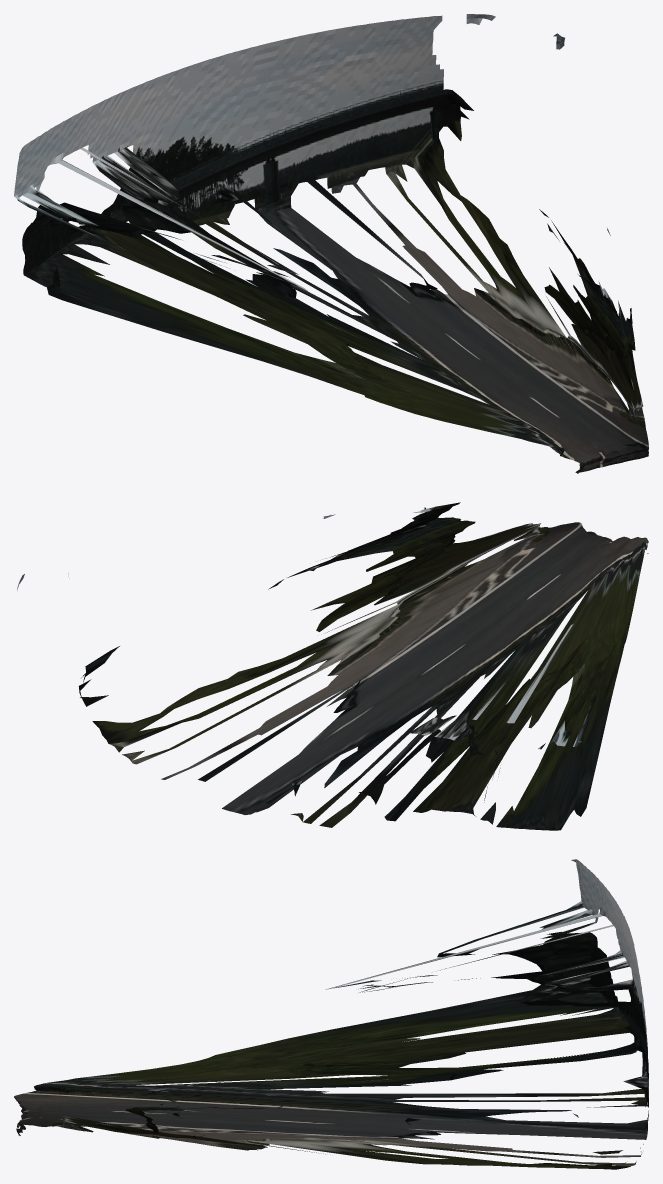
3 views of the same model, one above another, from view 1: azimuth 30°, elevation 25°; view 2: azimuth 150°, elevation 25°; view 3: azimuth 270°, elevation 25° (orthographic). The views are drawn at different scales.
Visible parts, largest first — view 1: defaultobject; view 2: defaultobject; view 3: defaultobject.
Boxes of the visible parts, x1,y1,x2,y2 form: defaultobject: (14,14,648,473); defaultobject: (17,502,648,830); defaultobject: (14,859,648,1169).
Size of the model in its own units: 39.8 by 12.09 by 44.38.
Materials: 1 (1 with a texture image).
